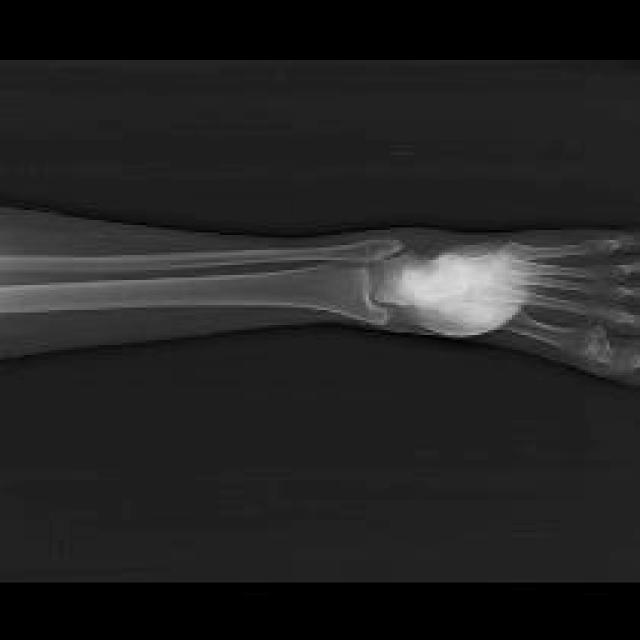normal: (3, 235, 637, 378)
